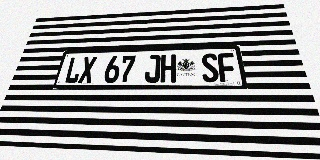6: (103, 56, 121, 83)
7: (118, 55, 136, 83)
F: (217, 53, 237, 82)
H: (160, 54, 176, 83)
J: (144, 55, 161, 83)
L: (63, 57, 83, 83)
S: (201, 53, 220, 82)
X: (78, 56, 97, 83)
